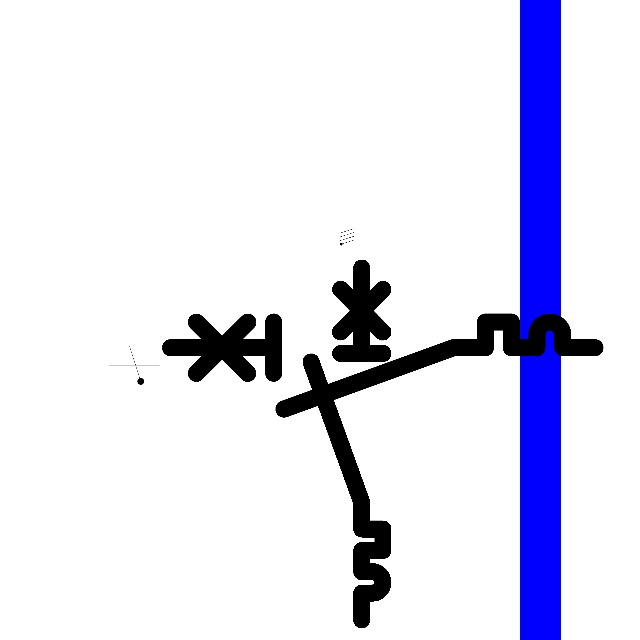interruptor_termomagnetico: (159, 311, 605, 420), (302, 258, 392, 628)
